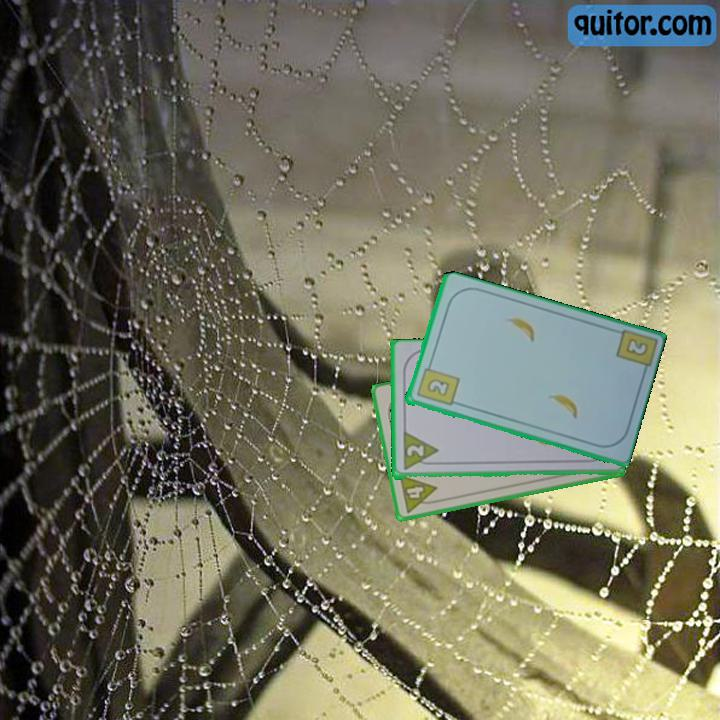2b: (413, 359, 461, 409), (622, 335, 651, 359)
2p: (403, 442, 426, 460)
4p: (396, 471, 442, 515)
